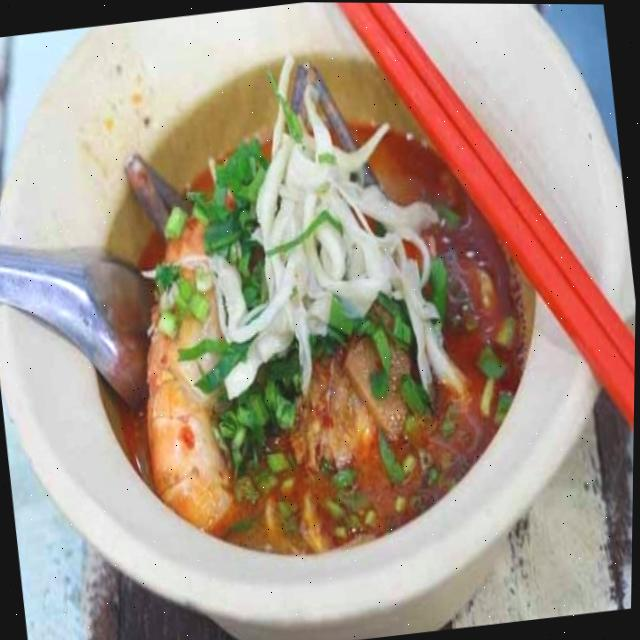汤锅炖物: (19, 20, 601, 628)
